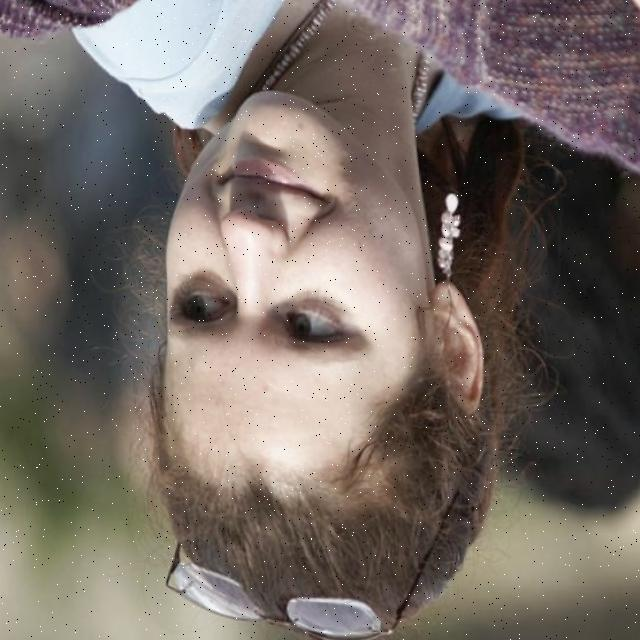puffy_eyes: (291, 292, 356, 330), (191, 276, 239, 303)
